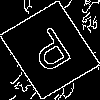P: (25, 25, 80, 82)
